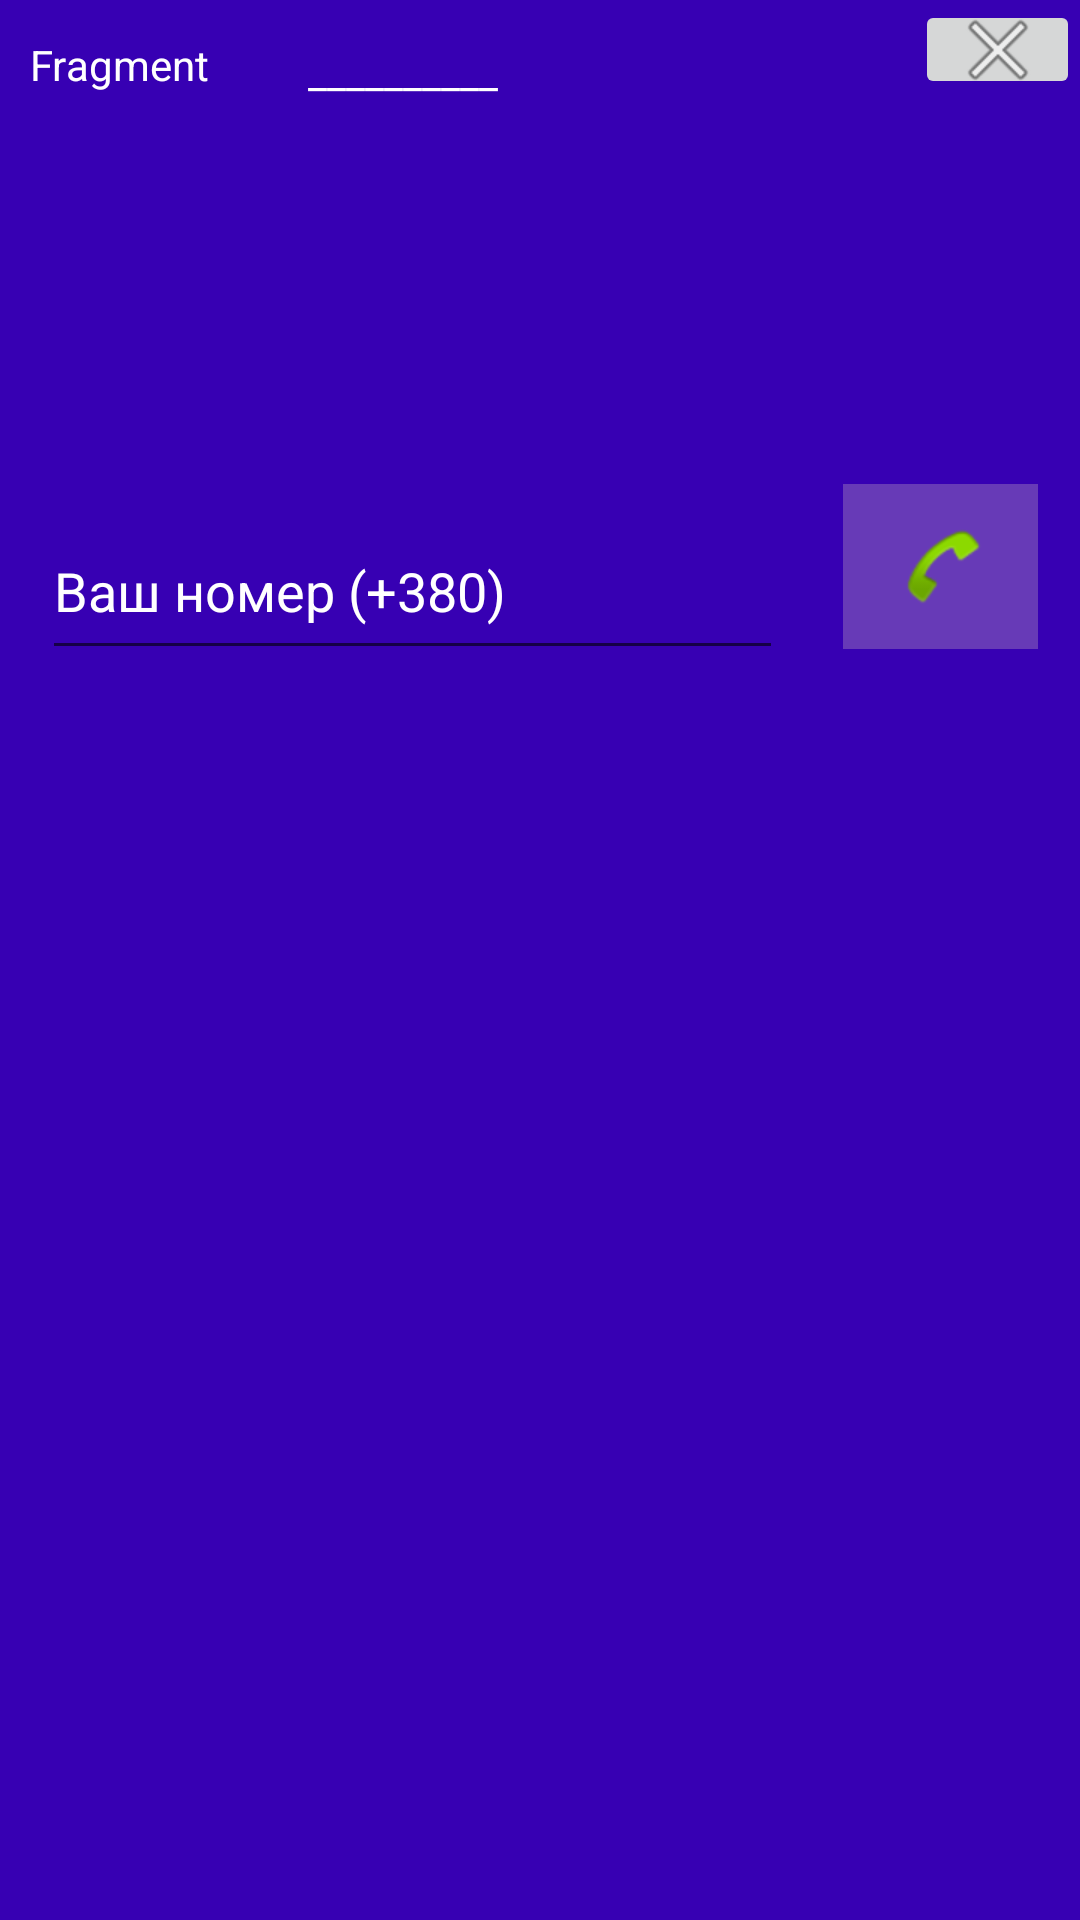

Locate icon controls on the screen. Image size 1080w x 1920h, boxes as box(x1, y1, x2, y2).
close clear cancel: box(927, 18, 1068, 81)
sym action call: box(843, 484, 1038, 649)
